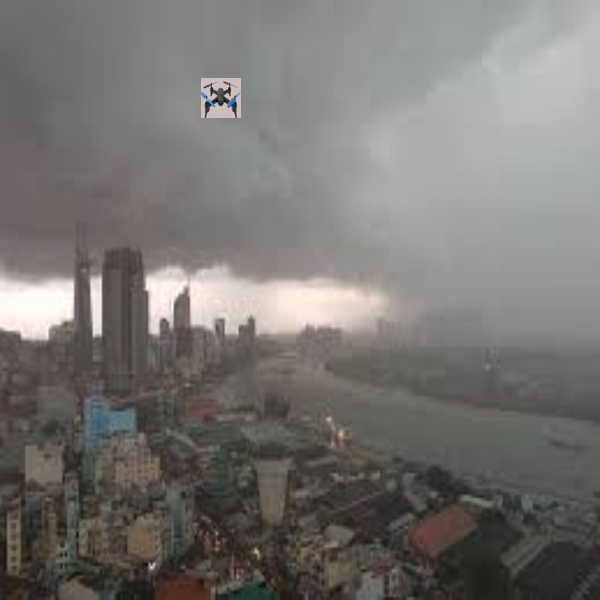drone: (201, 79, 243, 120)
